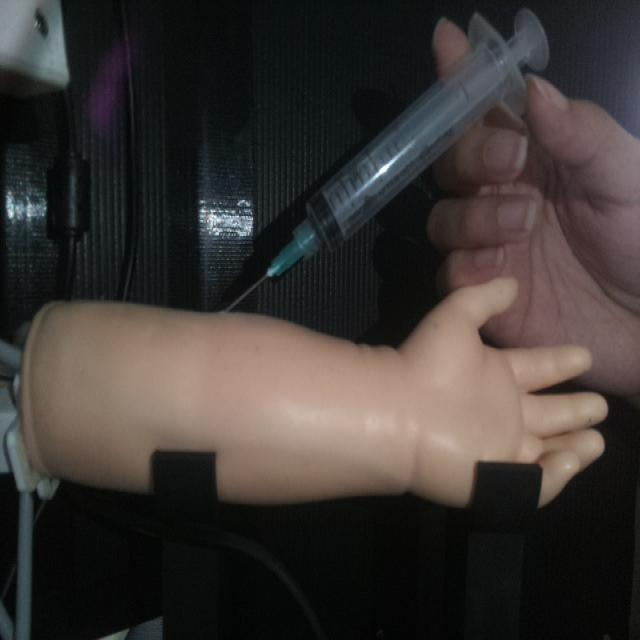Outside: (220, 6, 548, 316)
